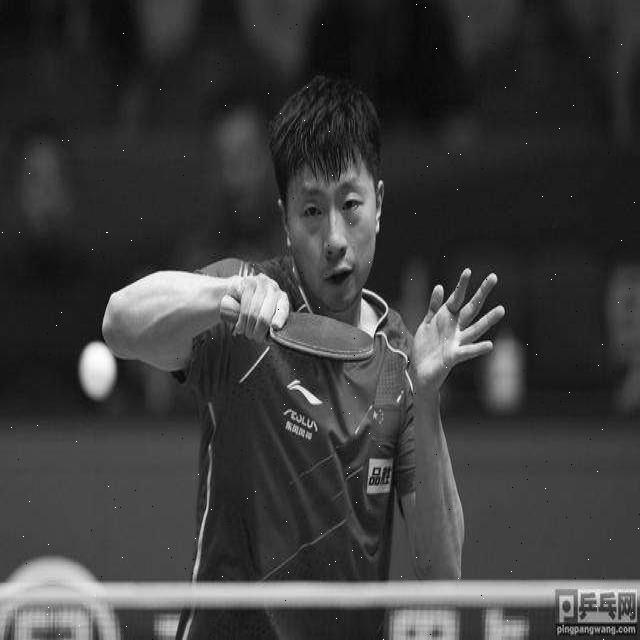ping-pong-ball: (76, 342, 115, 402)
